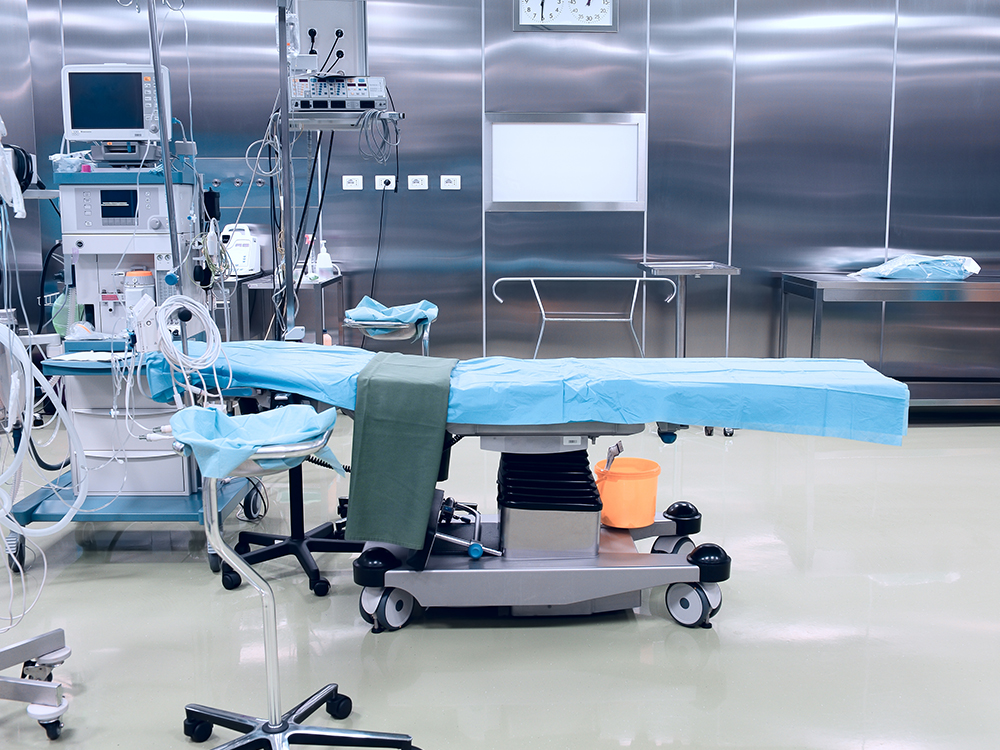bedside_monitor: (63, 62, 159, 136)
breathing_tube: (2, 323, 90, 537)
dispenser: (311, 233, 341, 290)
medical_drawer: (60, 380, 192, 498)
operating_bed: (156, 334, 909, 632)
table: (759, 252, 1000, 410)
utility_cart: (173, 397, 405, 746)
ventilator: (35, 142, 214, 498)
waste_bin: (591, 444, 661, 532)
